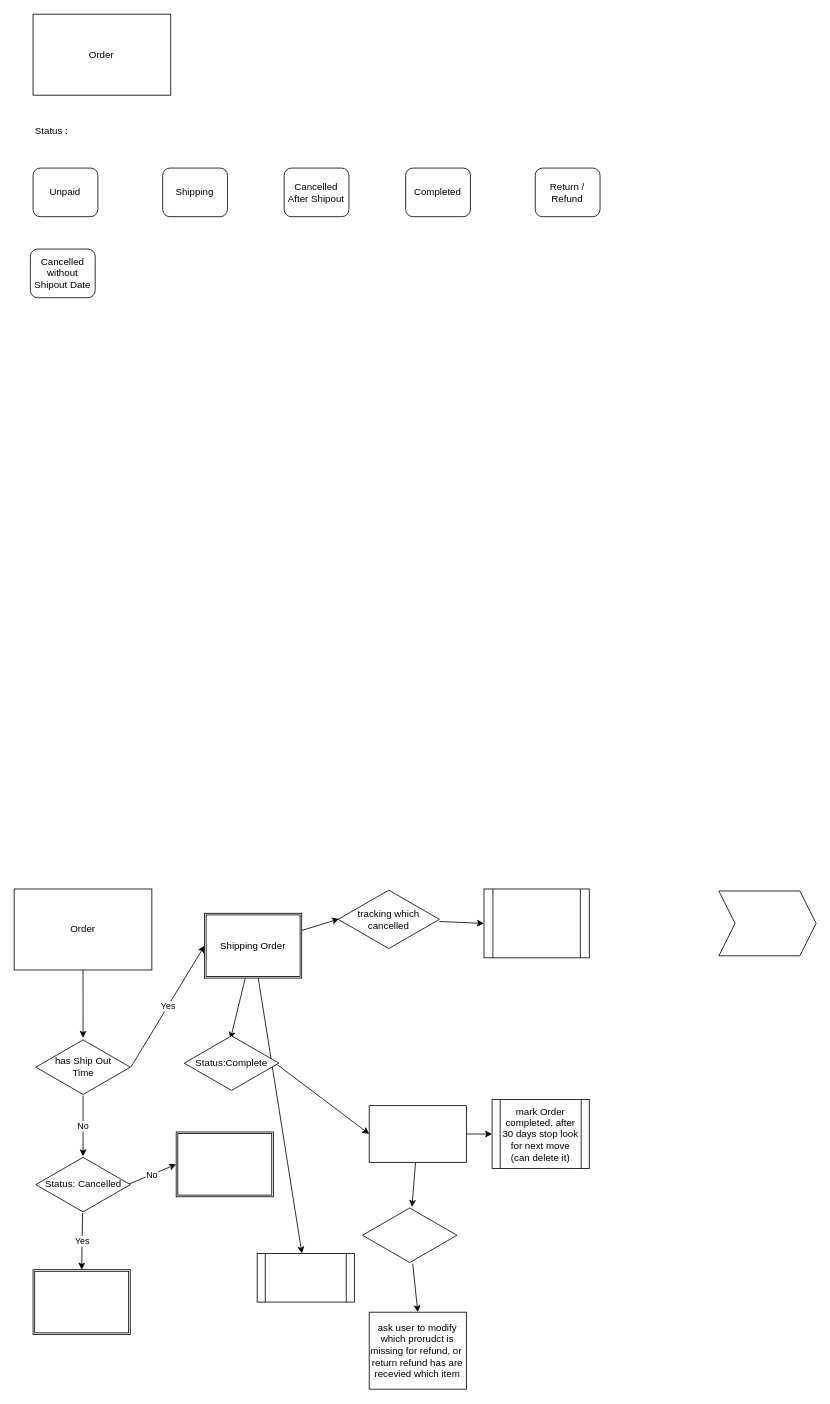
The diagram is 830 pixels wide and 1404 high, and some of its shapes have lost their labels. Here are the shapes that lost their labels. From the top down, the box of each, then its label:
(483, 888, 589, 958): record to receiving return from courier
(718, 890, 816, 956): user received return interface
(368, 1105, 466, 1162): Completed Order
(175, 1131, 273, 1197): Pending Order
(362, 1206, 457, 1264): has Return/refund
(256, 1253, 354, 1302): Make Sales Report
(32, 1269, 130, 1334): Cancelled Order
